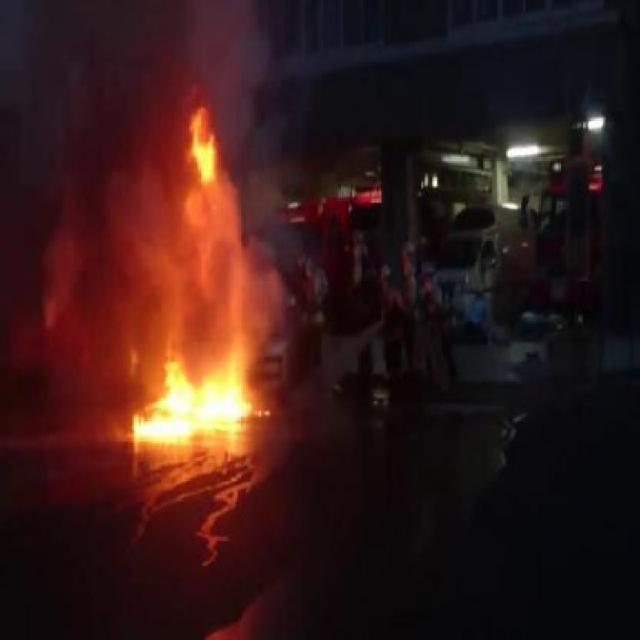Fire: (132, 356, 254, 442), (188, 110, 218, 178)
